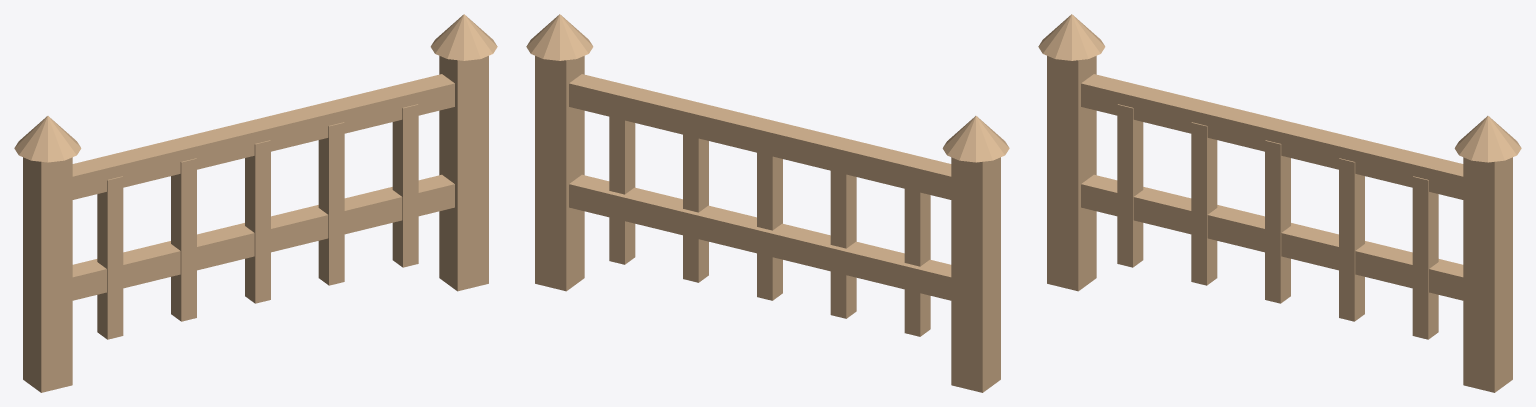
File: meadow-courier-picket-fence__29.glb
3 views of the same model, side by side, from view 1: azimuth 30°, elevation 25°; view 2: azimuth 150°, elevation 25°; view 3: azimuth 330°, elevation 25° (orthographic).
Visible parts, largest first — view 1: meadow-courier-picket-fence; view 2: meadow-courier-picket-fence; view 3: meadow-courier-picket-fence.
Boxes of the visible parts, x1=… form: meadow-courier-picket-fence: x1=14, y1=14, x2=497, y2=392; meadow-courier-picket-fence: x1=526, y1=14, x2=1009, y2=392; meadow-courier-picket-fence: x1=1038, y1=14, x2=1521, y2=392.
Size of the model in its own units: 2.12 by 1.14 by 0.26.
